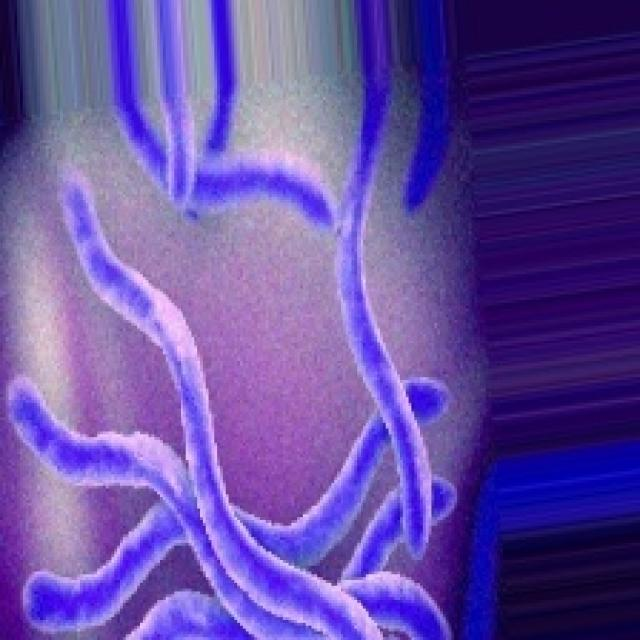Spiral_bacteria: (0, 0, 480, 637)
